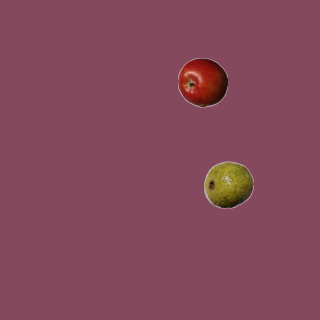Apple Braeburn: (177, 57, 227, 107)
Guava: (203, 159, 253, 209)
